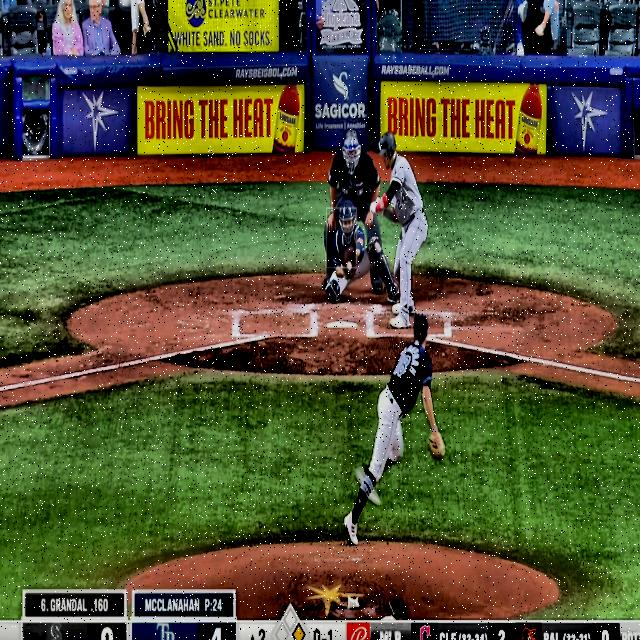baseball: (346, 260, 352, 272)
